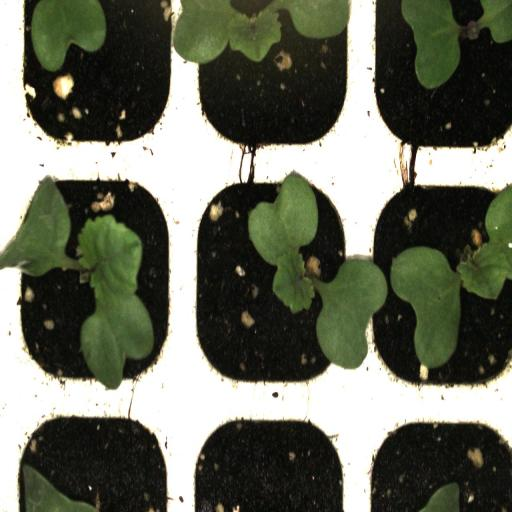Folha: (401, 0, 460, 90), (22, 464, 96, 512)
Germinacao: (182, 164, 360, 403), (8, 161, 181, 402), (362, 162, 512, 401), (182, 0, 362, 162), (361, 0, 512, 160)
